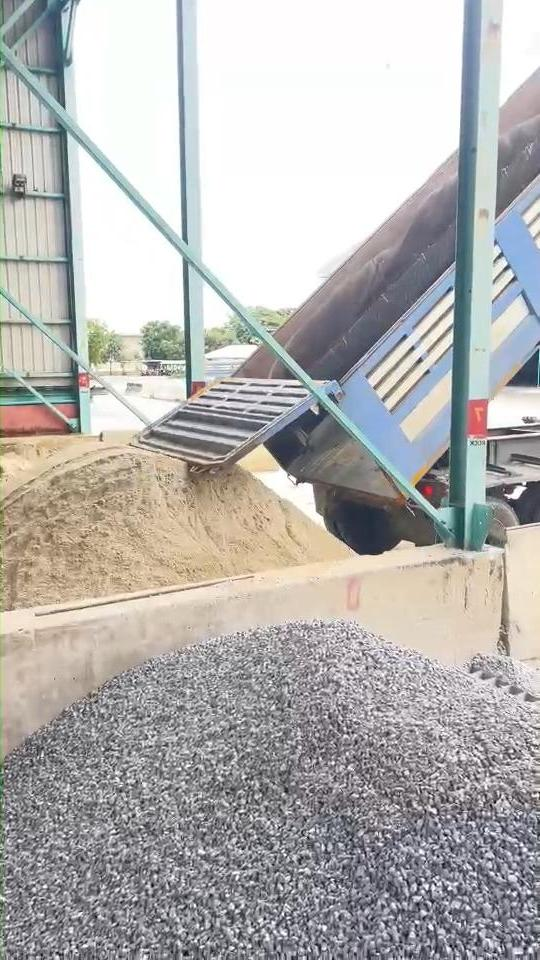gravel: (4, 622, 540, 959), (466, 653, 540, 699)
sand: (3, 446, 350, 608), (1, 431, 129, 492), (240, 447, 274, 472)
